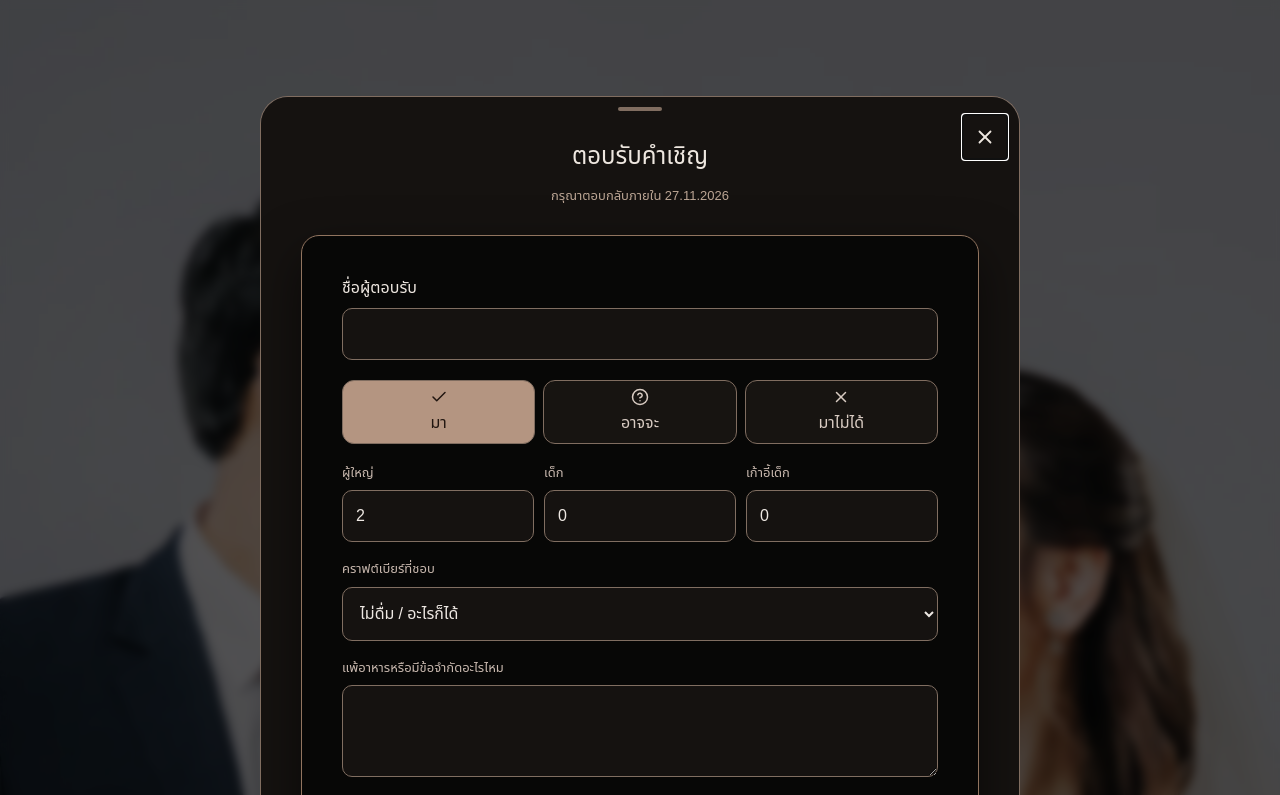
Scenario: submits a name from the shared link and shows confirmation
In the field labelled "ชื่อผู้ตอบรับ": x=640, y=334 [342,308,938,360], type "คุณใหม่"
(page scrolled)
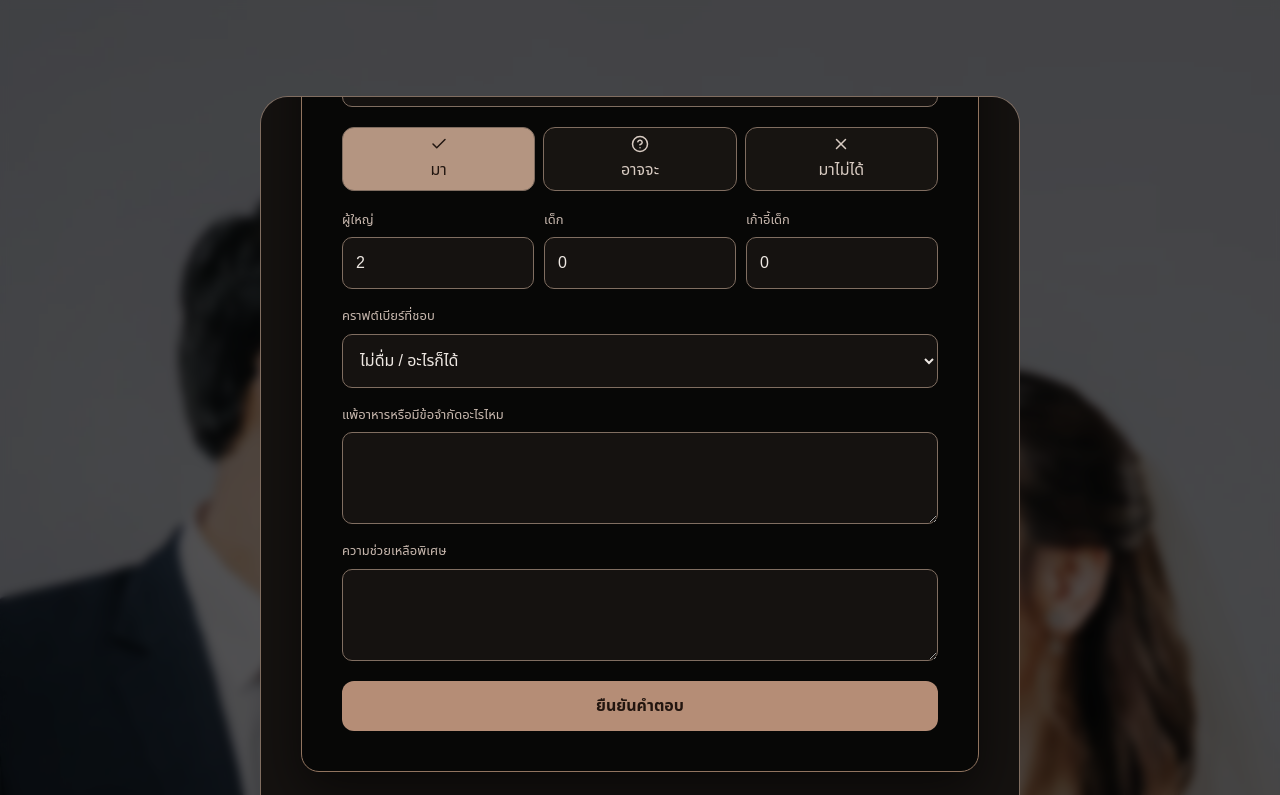
Click the button "ยืนยันคำตอบ": x=640, y=706 [342,680,938,730]
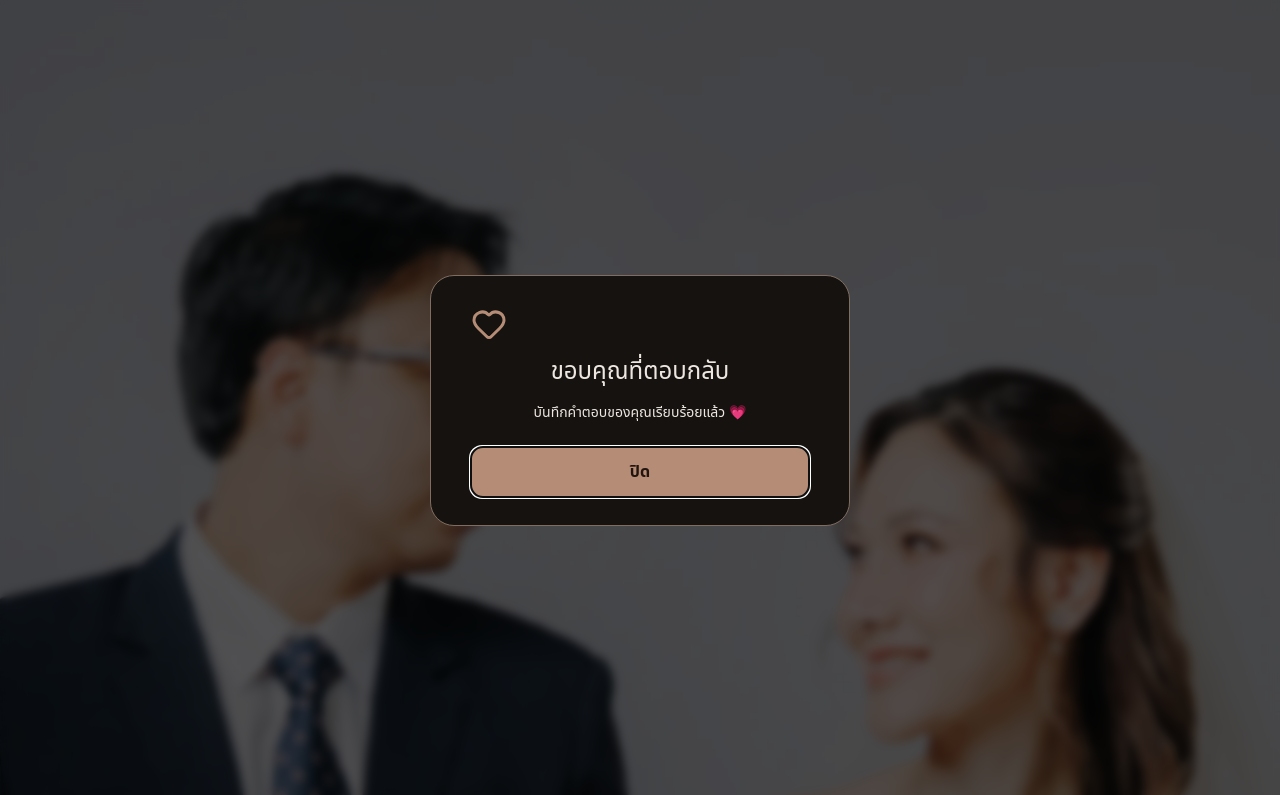
Now the dialog "ขอบคุณที่ตอบกลับ" is shown, box [430,274,850,526]
